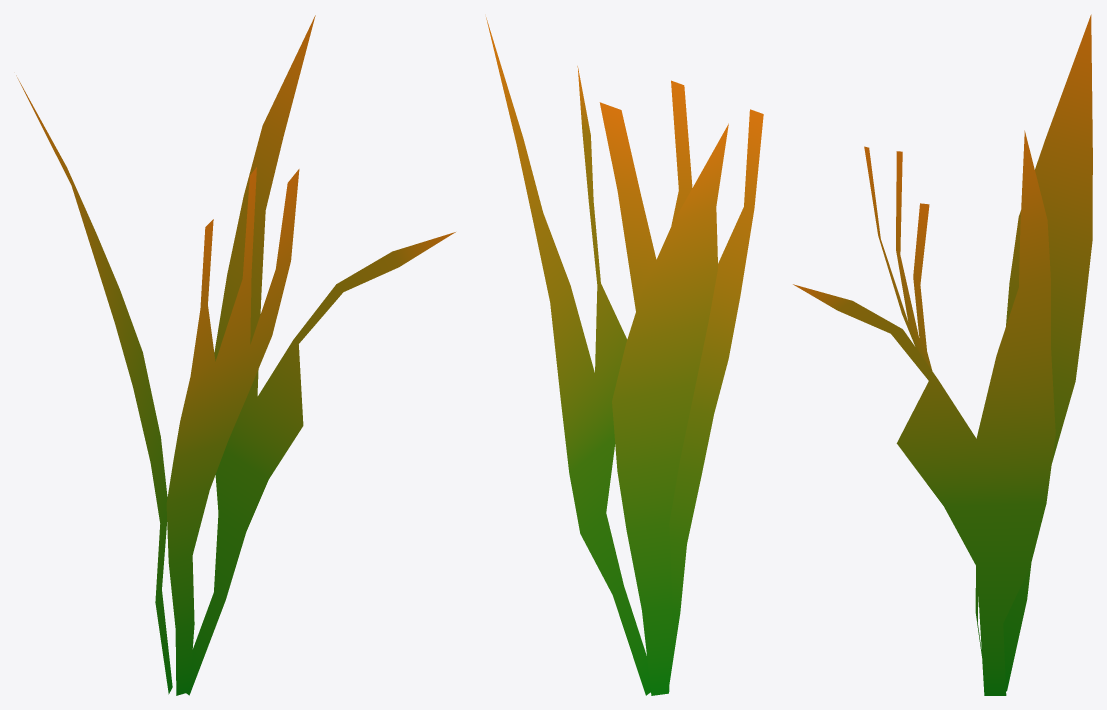
File: Common Eelgrass_LOD1_Var7_sjglk.fbx
The picture shows the model from 3 angles, left to right: view 1: azimuth 30°, elevation 25°; view 2: azimuth 150°, elevation 25°; view 3: azimuth 270°, elevation 25°; orthographic projection. The views are drawn at different scales.
Parts seen in each view (by area): view 1: _2515_Var7_LOD1; view 2: _2515_Var7_LOD1; view 3: _2515_Var7_LOD1.
Part boxes in pixels (box(x1,y1,x2,y2)): _2515_Var7_LOD1: box(16, 15, 455, 695); _2515_Var7_LOD1: box(486, 17, 763, 695); _2515_Var7_LOD1: box(793, 14, 1092, 695).
Bounding box in the file's own units: 33.7 × 69.03 × 29.5.
